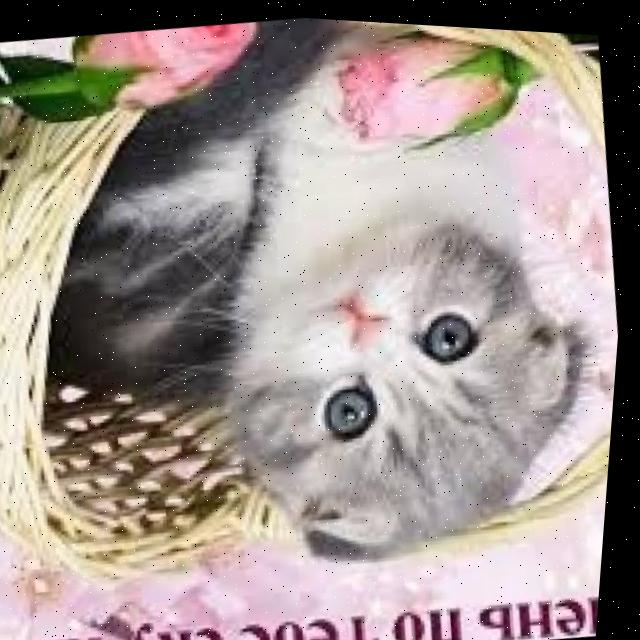Cats: (44, 46, 619, 604)
